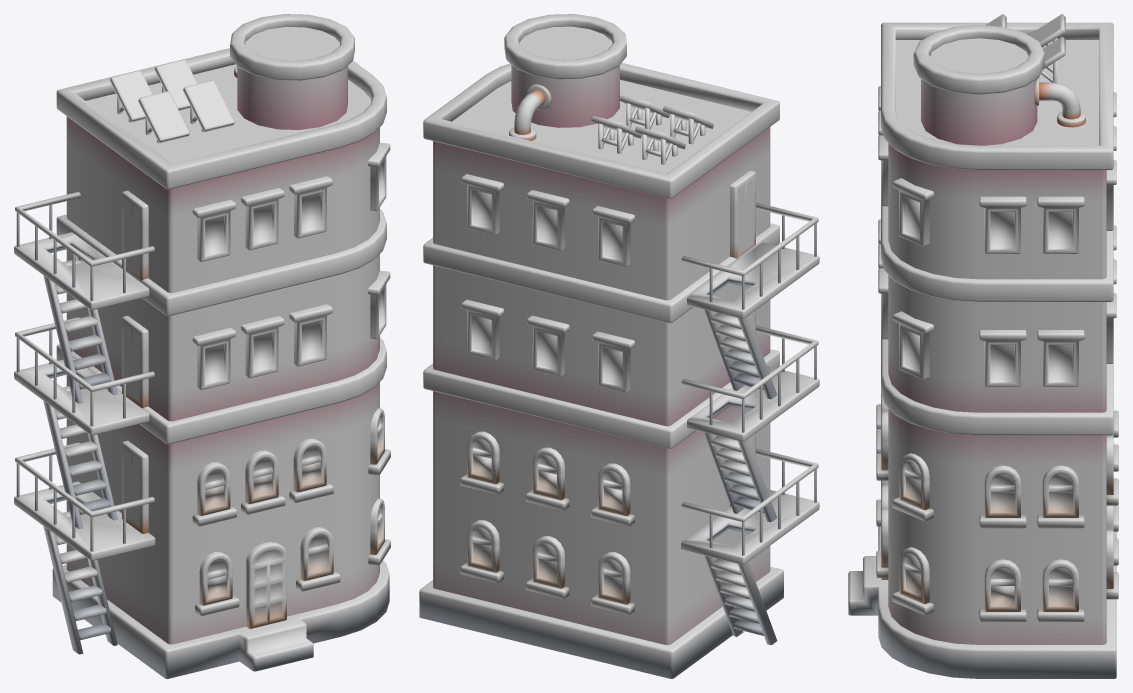
File: Building_092.fbx
3 renders of one model, left to right at view 1: azimuth 30°, elevation 25°; view 2: azimuth 150°, elevation 25°; view 3: azimuth 270°, elevation 25°, orthographic. The views are drawn at different scales.
Visible parts, largest first — view 1: Building_092; view 2: Building_092; view 3: Building_092.
Part boxes in pixels (box(x1,y1,x2,y2)): Building_092: box(14, 14, 390, 678); Building_092: box(419, 14, 819, 678); Building_092: box(848, 14, 1118, 678).
Size of the model in its own units: 1045 by 743 by 1775.
